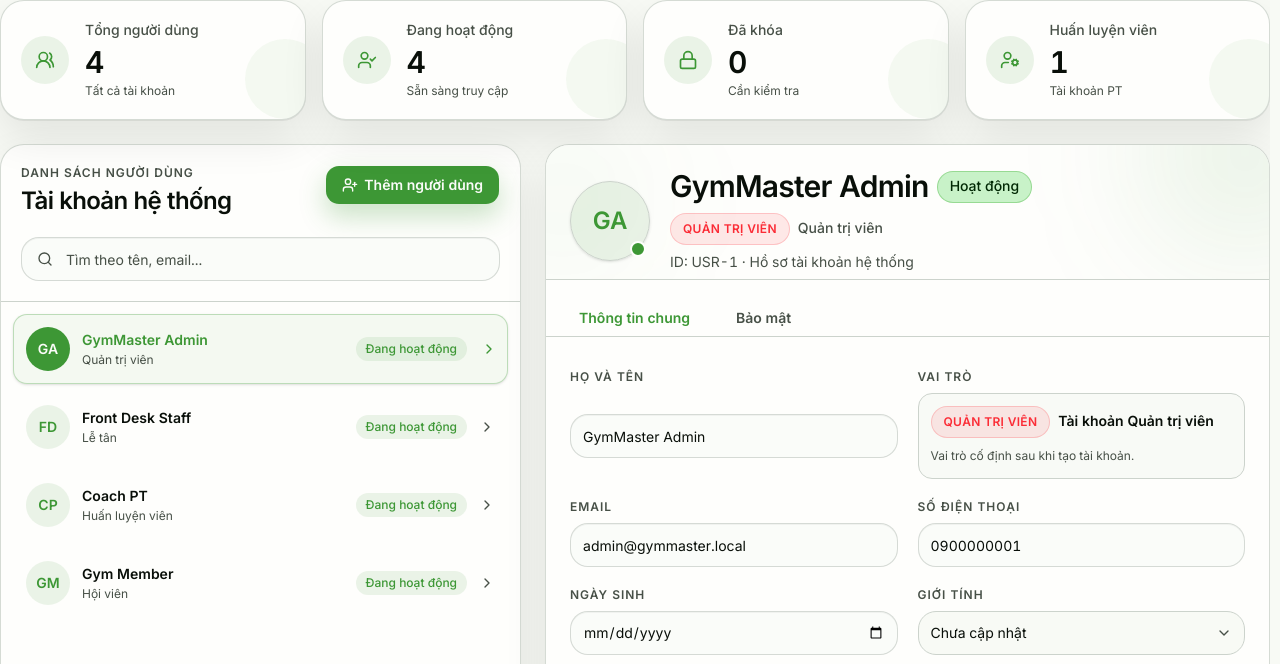
Test case: AdminUsersTemplateWorkspace › keeps account roles immutable in every edit form
Check: the text "GymMaster Admin" is shown, box [82,331,208,348]
Check: the text "Vai trò cố định sau khi tạo tài khoản." is shown, box [930,448,1134,463]
Click the text "Gym Member": (128, 574) [82,565,174,582]
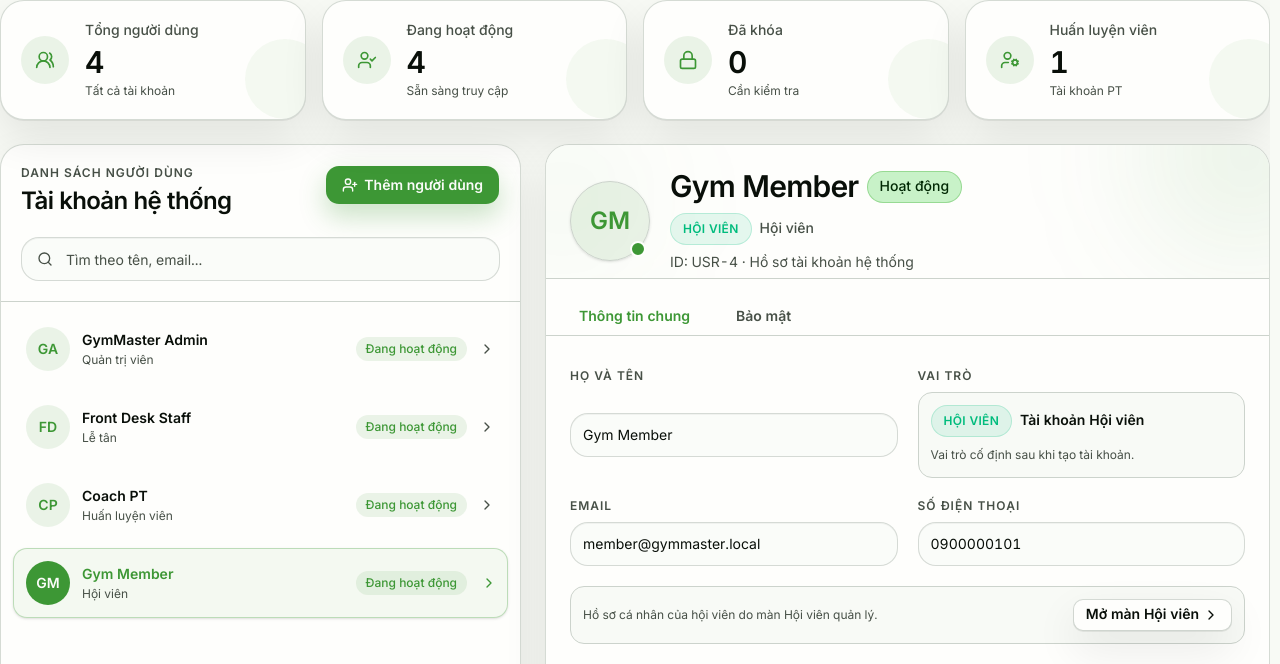
Check: the text "Vai trò cố định sau khi tạo tài khoản." is shown, box [930,447,1134,462]
Check: the text "Hồ sơ cá nhân của hội viên do màn Hội viên quản lý." is shown, box [583,605,878,625]
